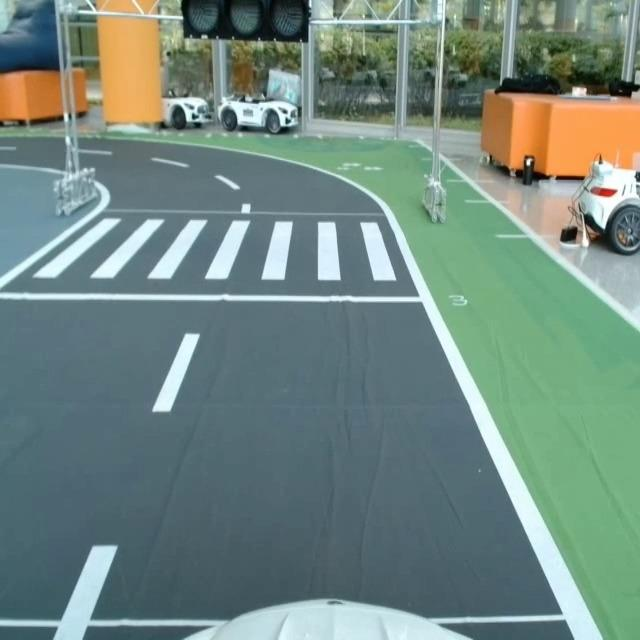traffic-light: (182, 0, 314, 49)
